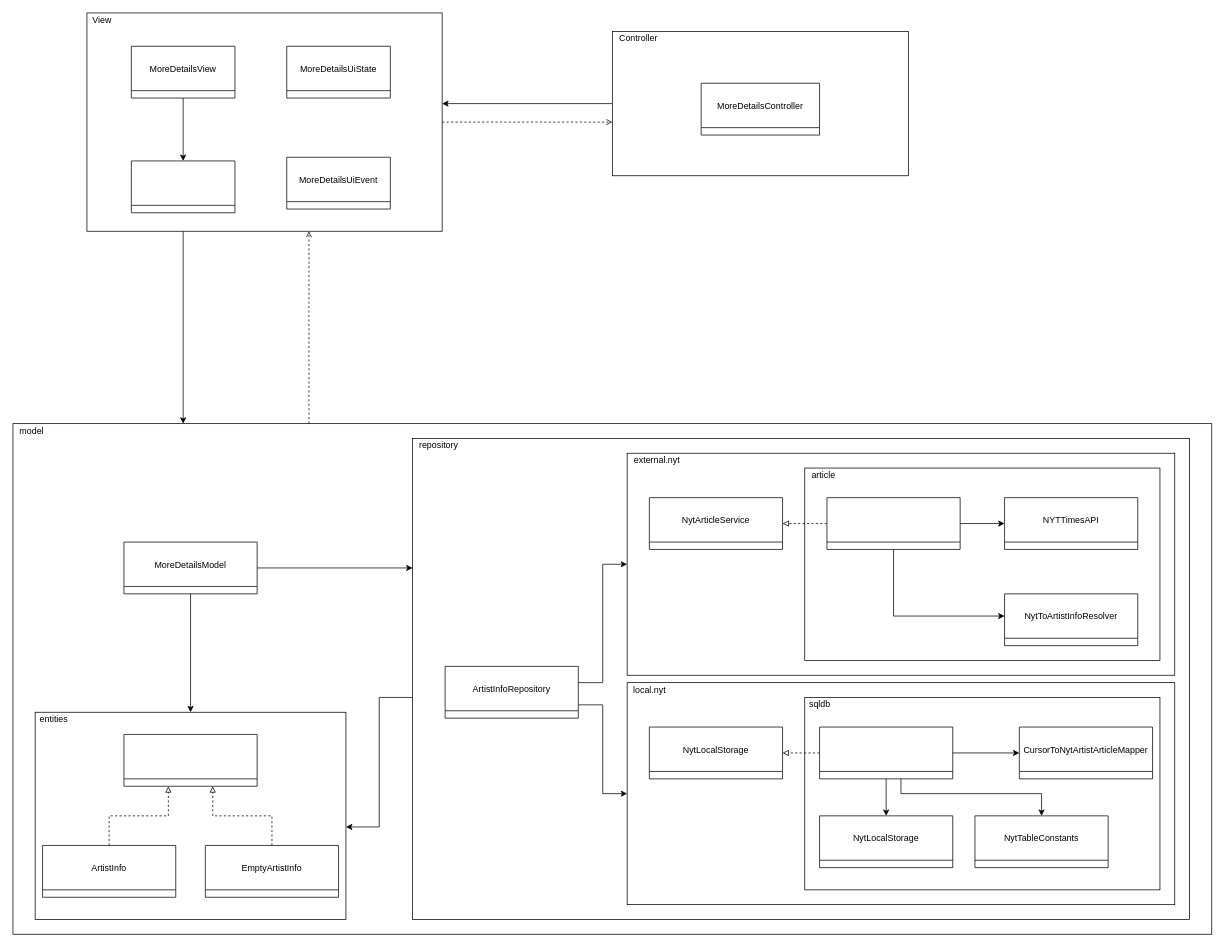
Image size: 1225x947. Some labels were removed from this diagram. Each missing label, with the box of its shape:
ArtistInfoHelper: (131, 160, 235, 213)
NytArticleServiceImpl: (826, 497, 960, 549)
NytArtistInfo: (123, 734, 257, 786)
NytLocalStorageImpl: (819, 726, 953, 779)
